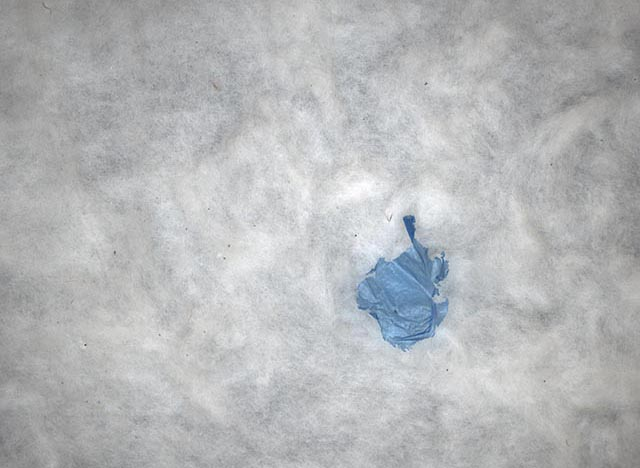plastic film: (355, 211, 452, 350)
